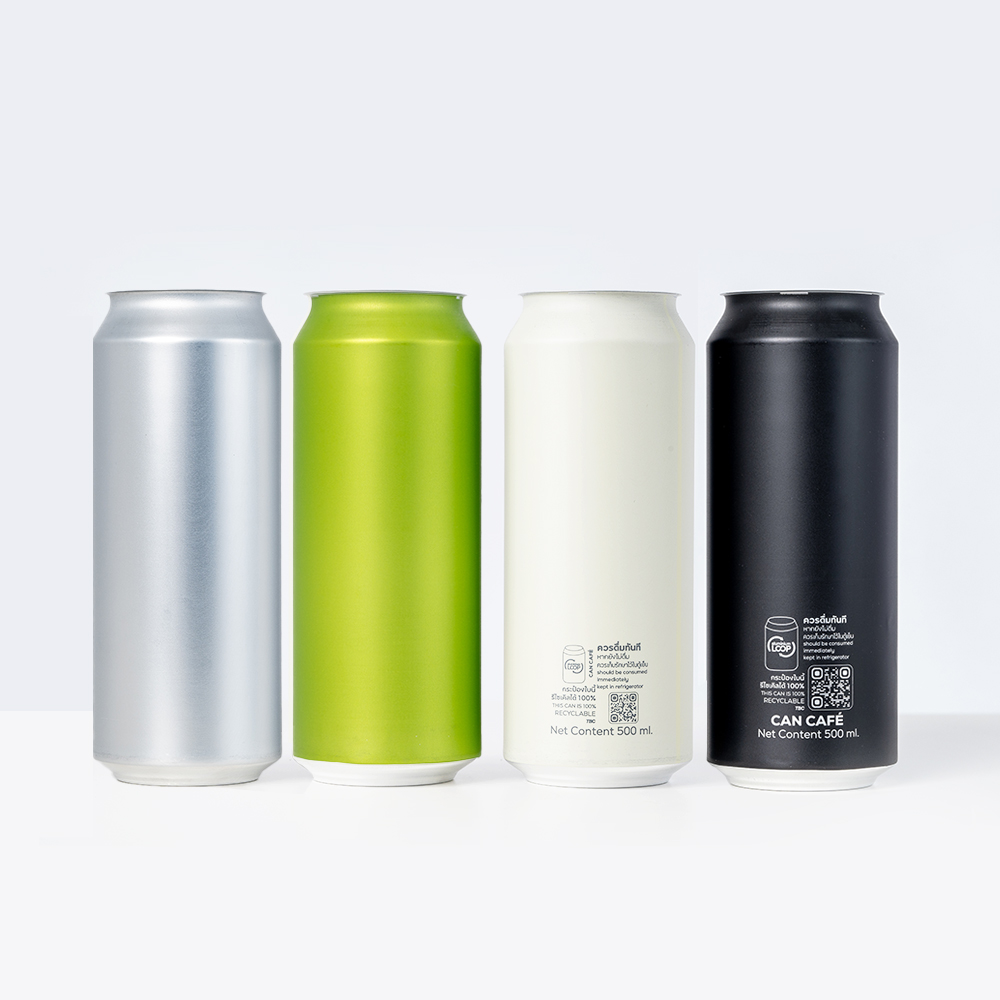can: (704, 280, 920, 792), (494, 281, 704, 788), (86, 281, 287, 782), (289, 280, 486, 787)
